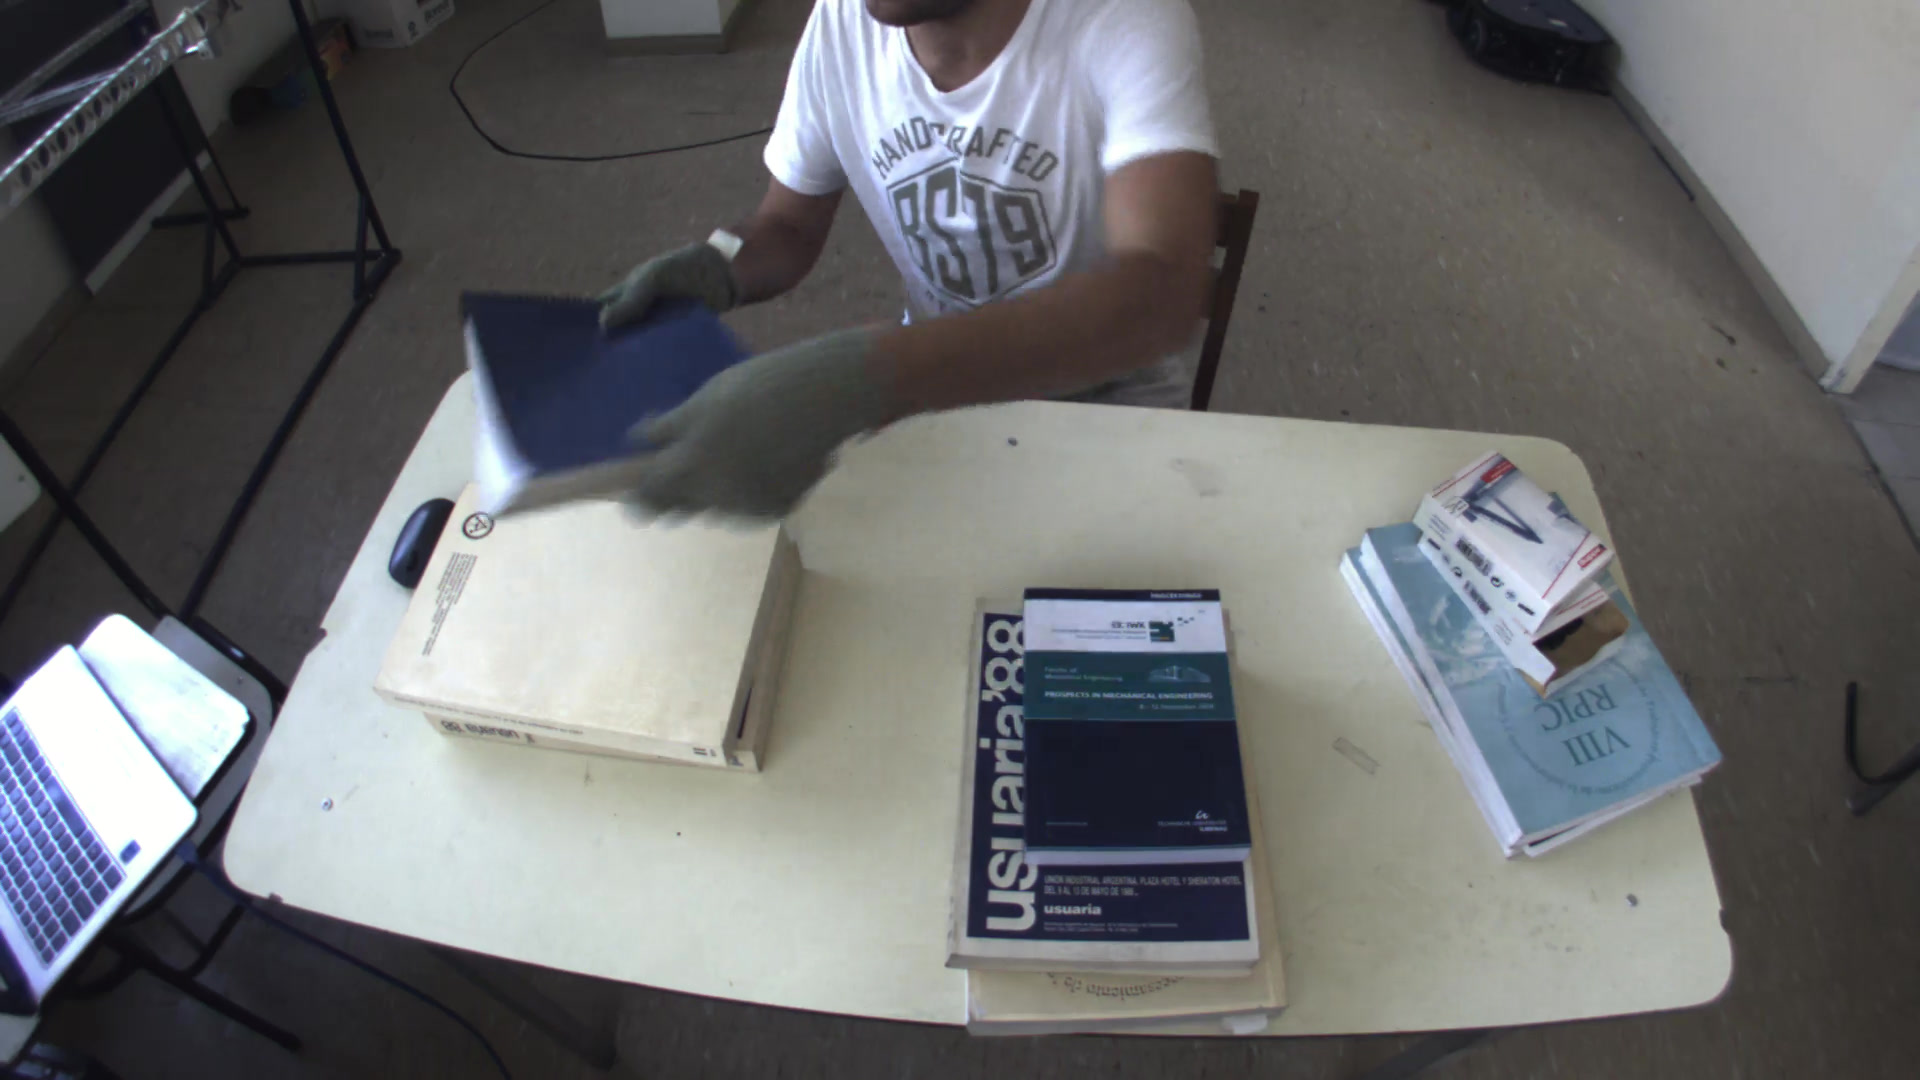hand: (622, 345, 851, 524), (588, 218, 740, 334)
